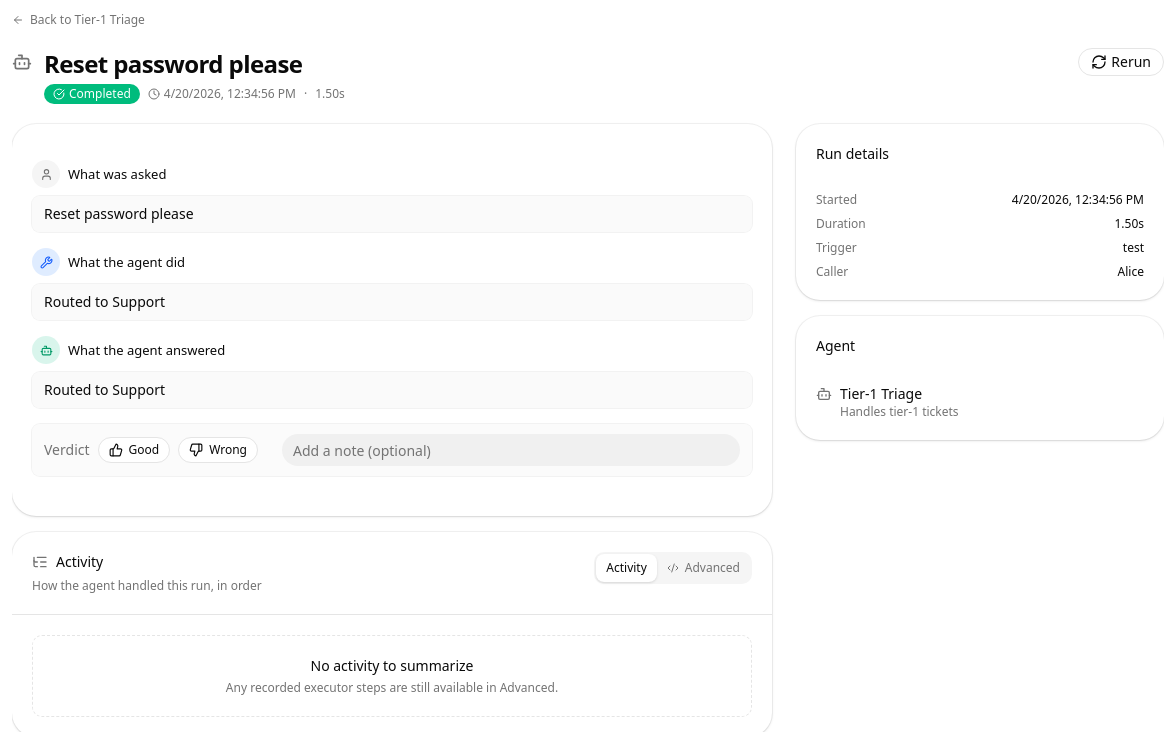
AgentRunDetailPage — sidebar metadata › keeps technical metadata in Advanced while retaining operational context
Expected: the text "run-1" is not shown
Expected: the text "claude-opus-4-7" is not shown
Click the button "Advanced" at (703, 568), box [657,554,750,582]
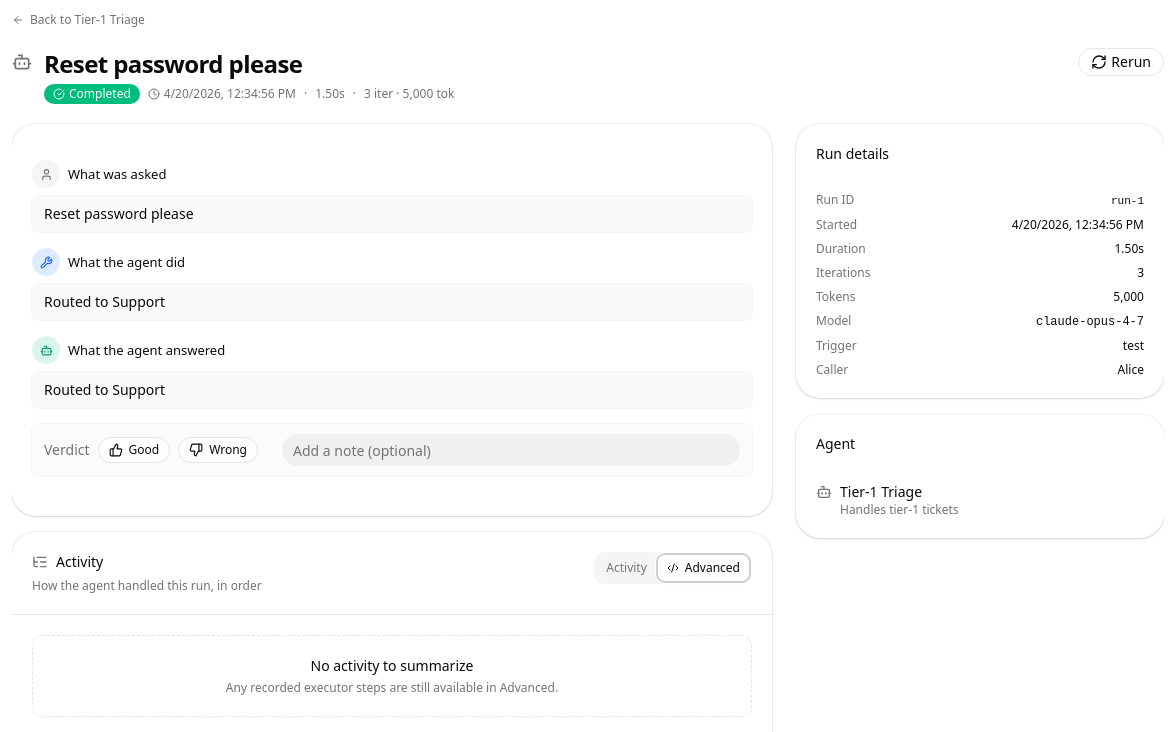
Expected: the text "run-1" is shown, [1111,195,1144,207]
Expected: the text "claude-opus-4-7" is shown, [1036,315,1144,329]
Expected: the text "Iterations" is shown, [816,265,870,281]
